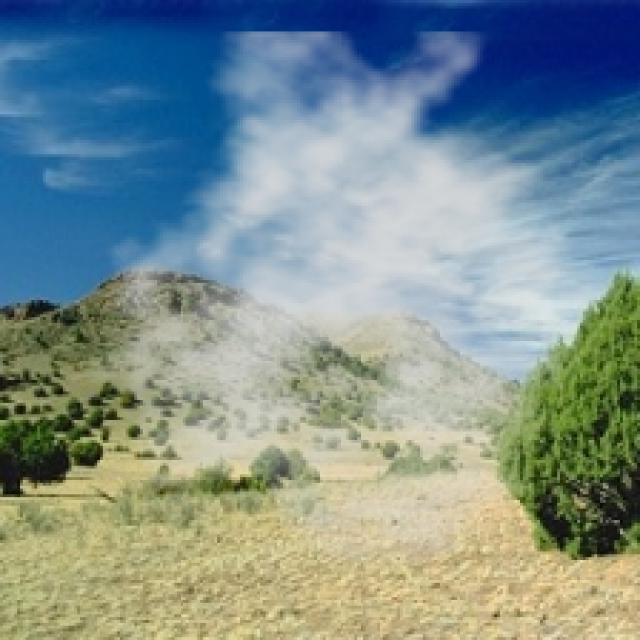smoke: (83, 31, 634, 568)
